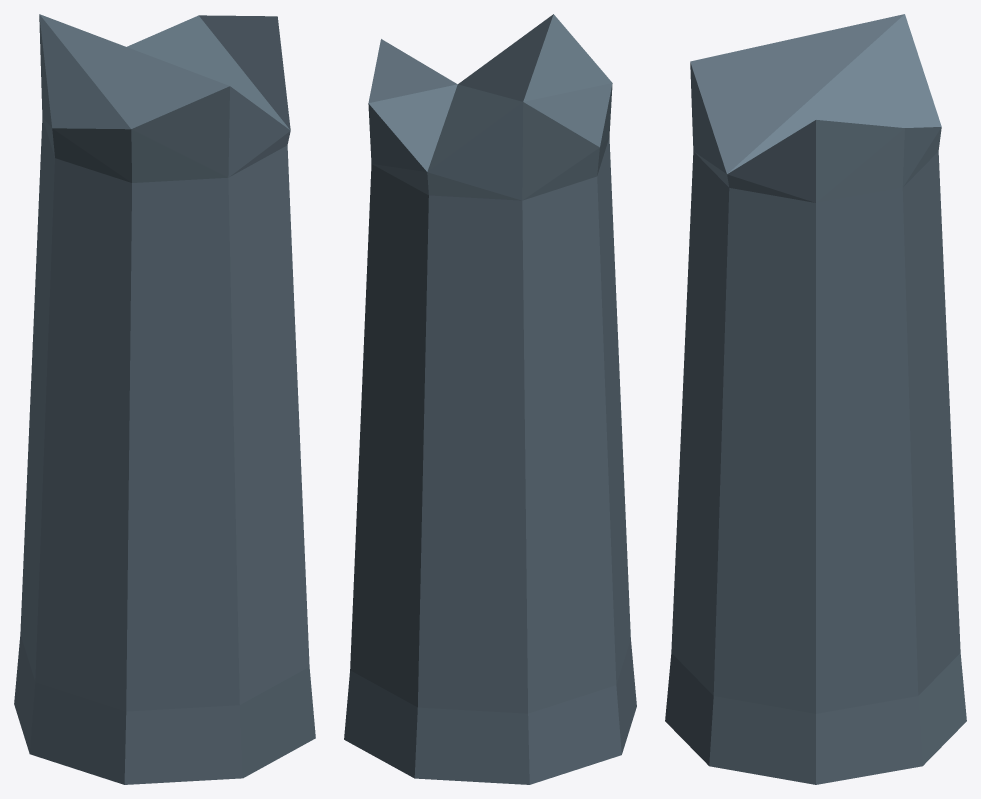
File: A20_Column_Broken.fbx
3 renders of one model, left to right at view 1: azimuth 30°, elevation 25°; view 2: azimuth 150°, elevation 25°; view 3: azimuth 270°, elevation 25°, orthographic. The views are drawn at different scales.
Visible parts, largest first — view 1: A20_Column_Broken; view 2: A20_Column_Broken; view 3: A20_Column_Broken.
Part boxes in pixels (box(x1,y1,x2,y2)): A20_Column_Broken: box(14, 14, 315, 784); A20_Column_Broken: box(344, 14, 636, 784); A20_Column_Broken: box(665, 14, 966, 784).
Bounding box in the file's own units: 0.48 × 1.17 × 0.48.
Materials: 1 (1 with a texture image).
